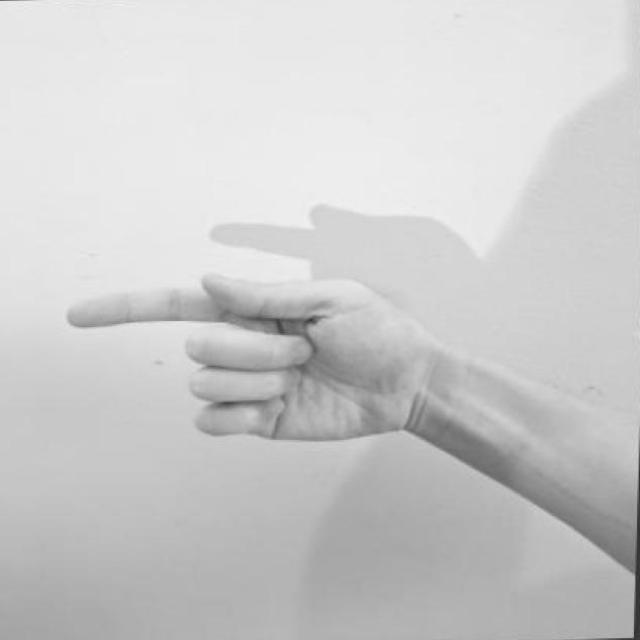G: (51, 253, 472, 472)
